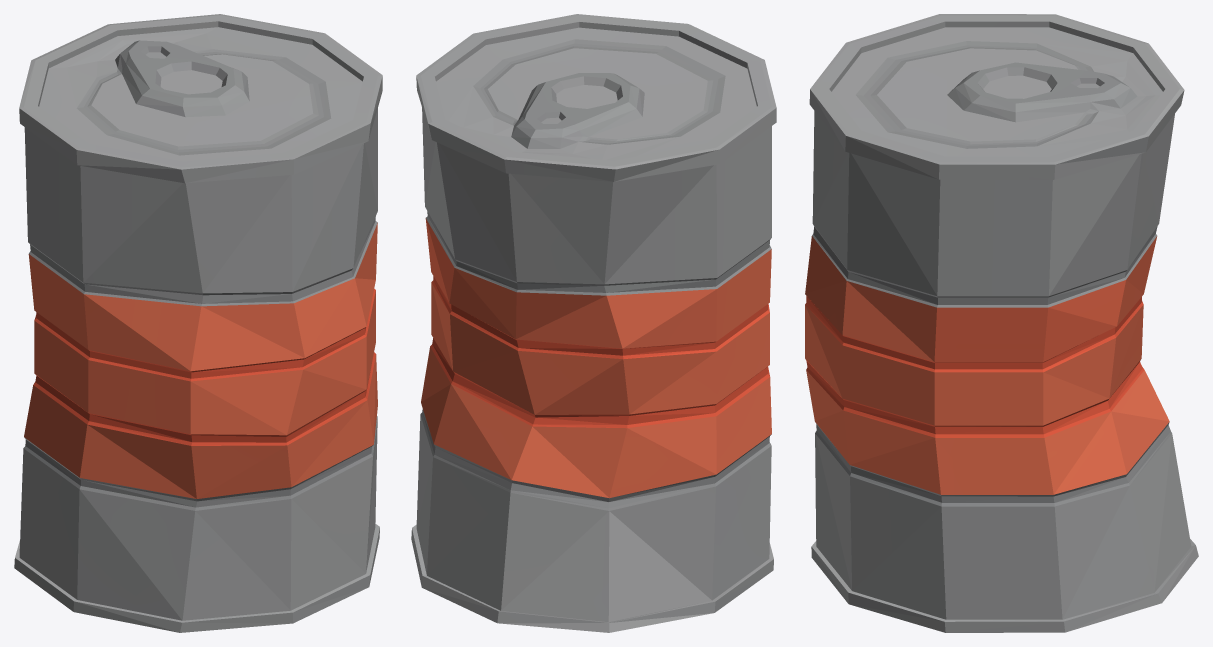
Rendered from closed_can_with_food.obj.
3 renders of one model, left to right at view 1: azimuth 30°, elevation 25°; view 2: azimuth 150°, elevation 25°; view 3: azimuth 270°, elevation 25°, orthographic.
Parts seen in each view (by area): view 1: closed_can_with_food_Material; view 2: closed_can_with_food_Material; view 3: closed_can_with_food_Material.
Boxes of the visible parts, x1,y1,x2,y2 form: closed_can_with_food_Material: (14,14,382,632); closed_can_with_food_Material: (411,14,776,632); closed_can_with_food_Material: (805,14,1198,632).
Bounding box in the file's own units: 0.1046 × 0.1537 × 0.1156.
